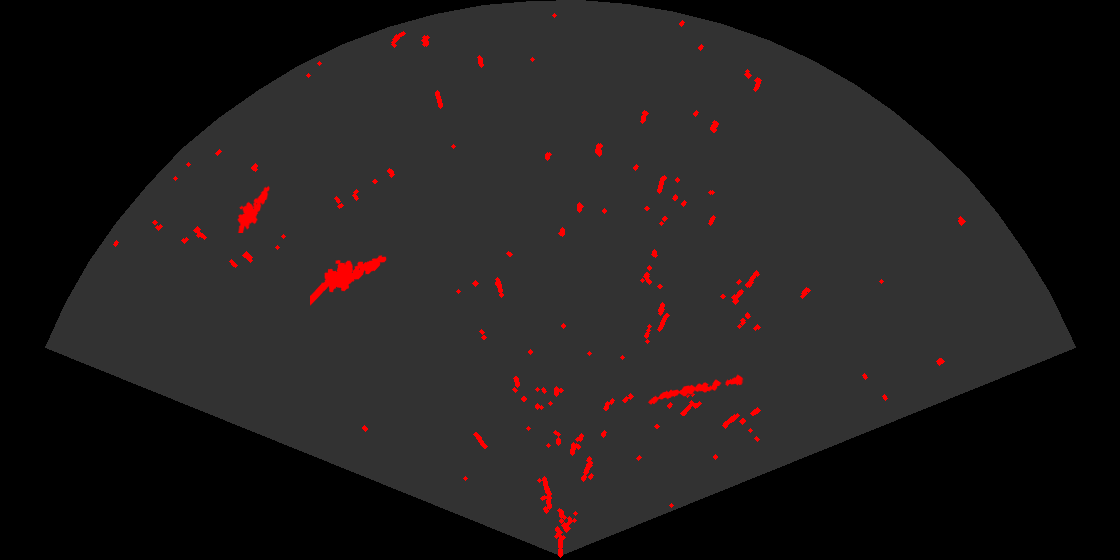chain: (647, 373, 745, 406)
frogman: (310, 254, 388, 307), (236, 184, 271, 233)
